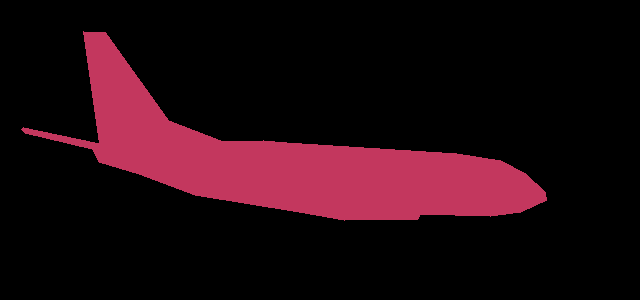Airplane: (21, 31, 547, 221)
